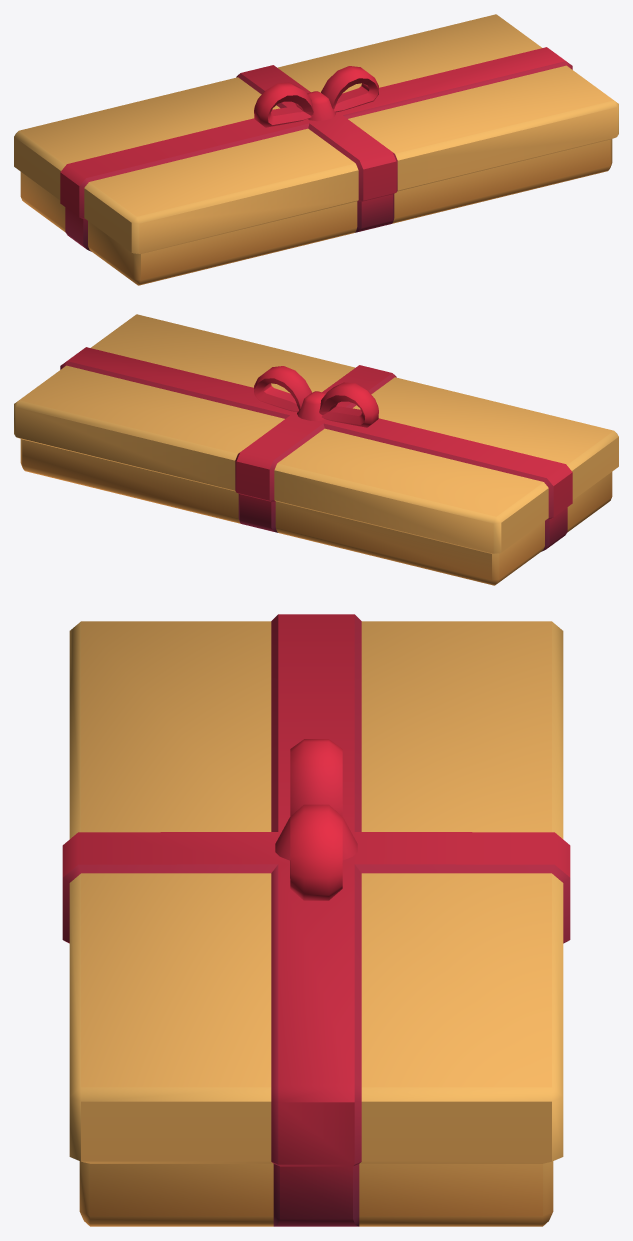
Rendered from present_F_yellow.glb.
3 renders of one model, top to bottom at view 1: azimuth 30°, elevation 25°; view 2: azimuth 150°, elevation 25°; view 3: azimuth 270°, elevation 25°, orthographic. The views are drawn at different scales.
Visible parts, largest first — view 1: present_F_yellow; view 2: present_F_yellow; view 3: present_F_yellow.
Boxes of the visible parts, left/top/right/bottom form: present_F_yellow: left=14, top=14, right=618, bottom=285; present_F_yellow: left=14, top=314, right=618, bottom=585; present_F_yellow: left=62, top=614, right=570, bottom=1226.
Size of the model in its own units: 2.16 by 0.4617 by 0.9638.
Materials: 1 (1 with a texture image).
